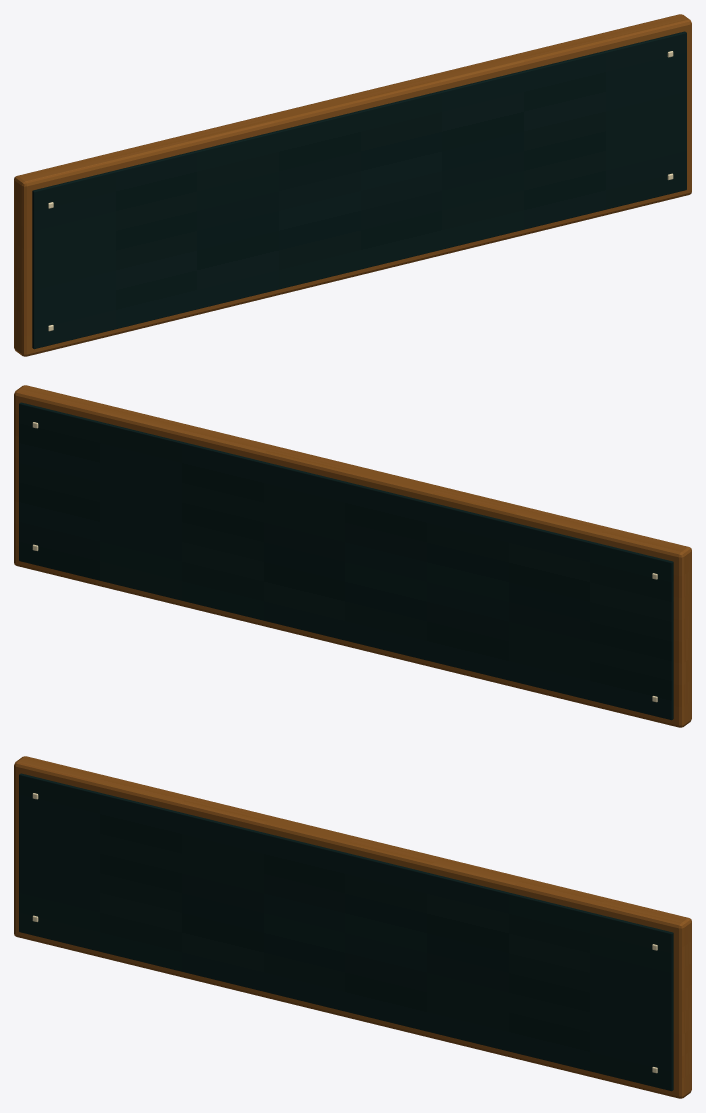
File: street-blade.glb
The picture shows the model from 3 angles, top to bottom: view 1: azimuth 30°, elevation 25°; view 2: azimuth 150°, elevation 25°; view 3: azimuth 330°, elevation 25°; orthographic projection.
Visible parts, largest first — view 1: BlankFaceFront, BrassBody; view 2: BlankFaceBack, BrassBody; view 3: BlankFaceFront, BrassBody.
Part boxes in pixels (x1,y1,x2,y2): BlankFaceFront: [32, 31, 686, 349]; BrassBody: [14, 14, 691, 356]; BlankFaceBack: [19, 402, 673, 720]; BrassBody: [14, 385, 691, 727]; BlankFaceFront: [19, 773, 673, 1091]; BrassBody: [14, 756, 691, 1098].
Size of the model in its own units: 2.4 by 0.6 by 0.1029.
Materials: 3 (3 with a texture image).
